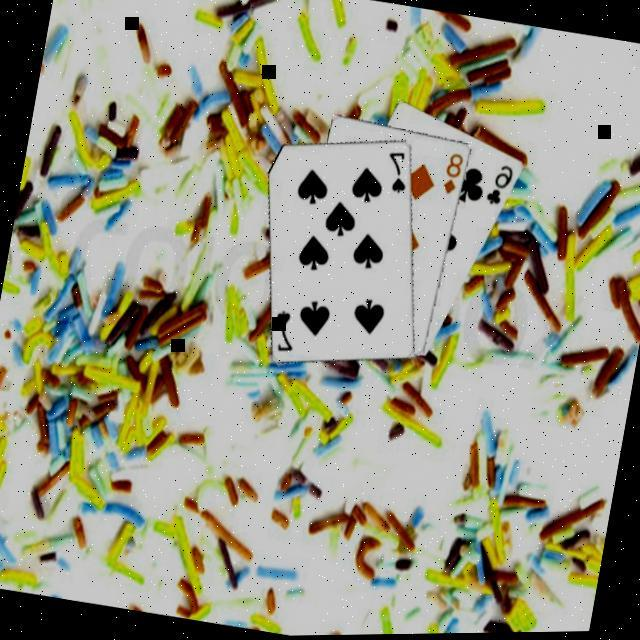6C: (480, 162, 516, 212)
7S: (265, 306, 300, 356), (378, 148, 412, 198)
8D: (436, 150, 464, 200)
